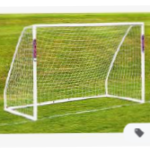goals: (1, 22, 150, 121)
